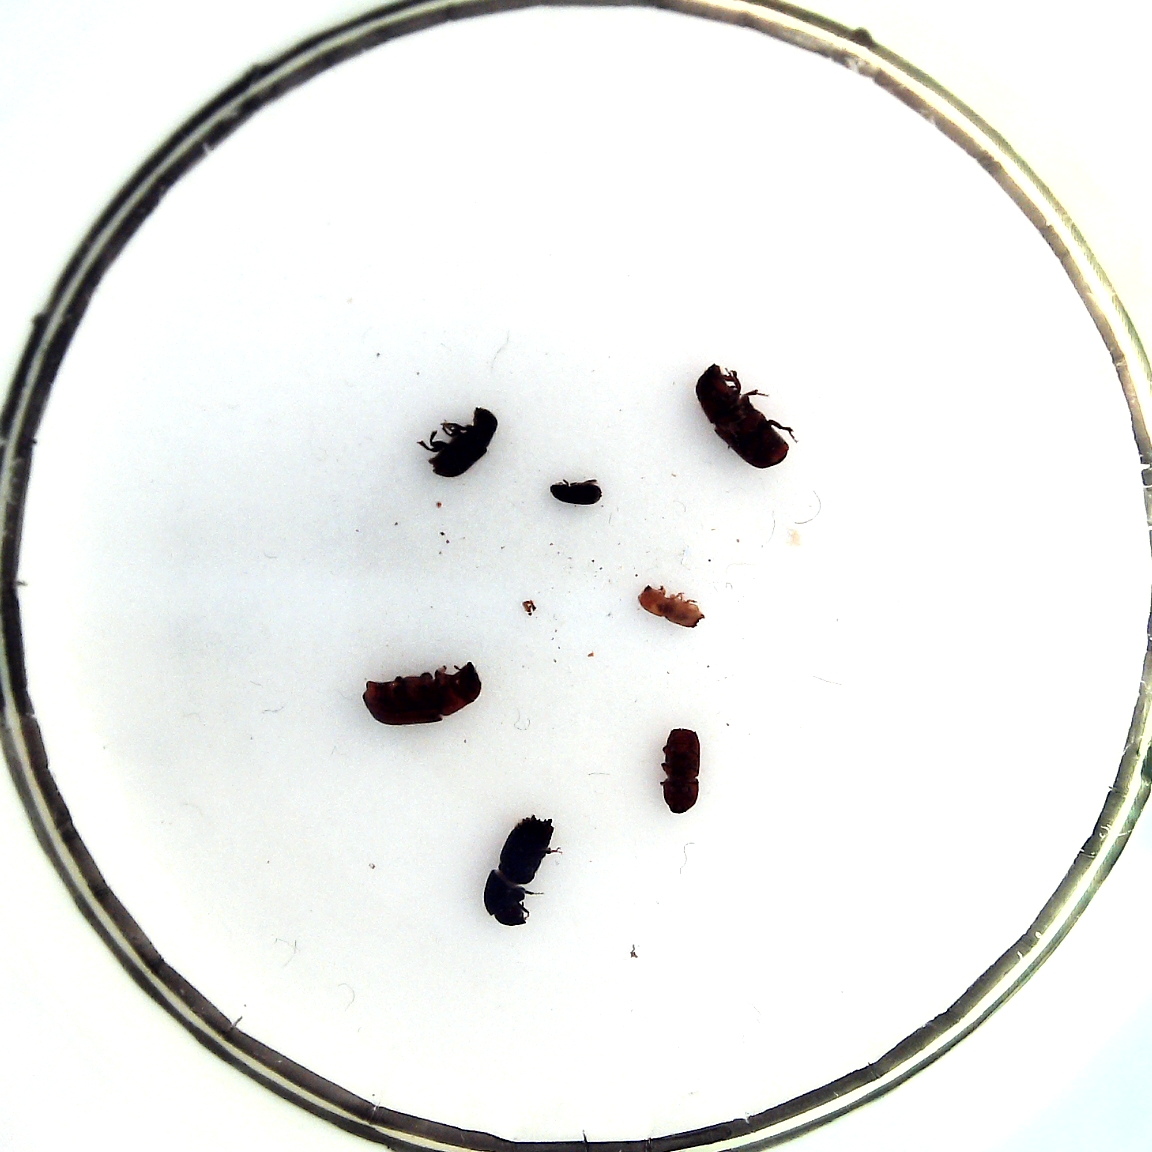Boerner: (483, 813, 553, 926)
Leconte: (697, 363, 790, 468), (362, 661, 483, 725)
acuminatus: (550, 480, 603, 505)
armandi: (427, 406, 499, 478)
coleoptera: (638, 585, 706, 630)
linnaeus: (661, 727, 700, 813)
